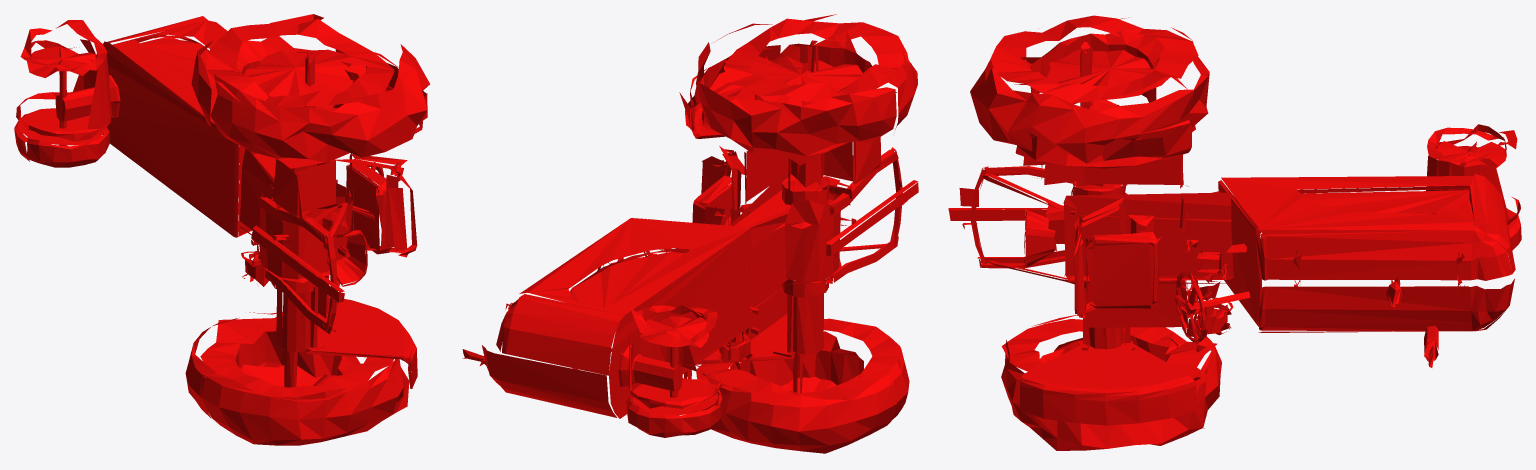
3 renders of one model, left to right at view 1: azimuth 30°, elevation 25°; view 2: azimuth 150°, elevation 25°; view 3: azimuth 270°, elevation 25°, orthographic.
Visible parts, largest first — view 1: Renderer Node; view 2: Renderer Node; view 3: Renderer Node.
Part boxes in pixels (bbox=[...]): Renderer Node: bbox=[14, 14, 429, 445]; Renderer Node: bbox=[462, 14, 918, 453]; Renderer Node: bbox=[948, 15, 1521, 450].
Bounding box in the file's own units: 0.9212 × 1.18 × 1.65.
1 material, 1 textured.
